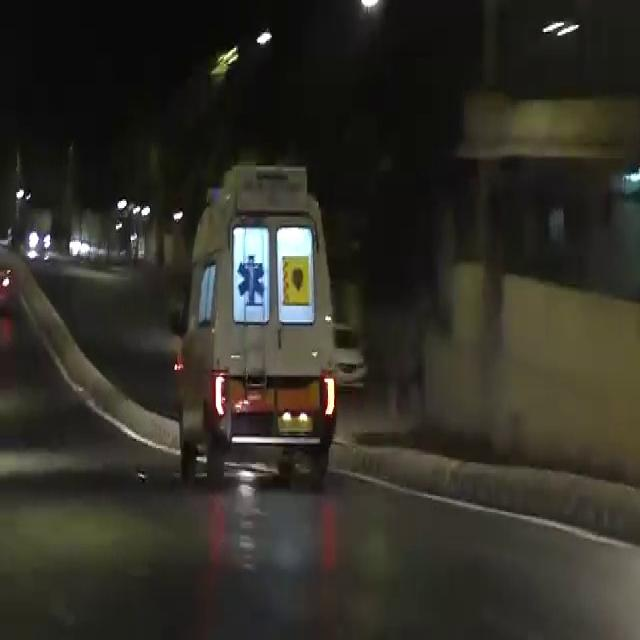ambulance: (186, 168, 347, 450)
